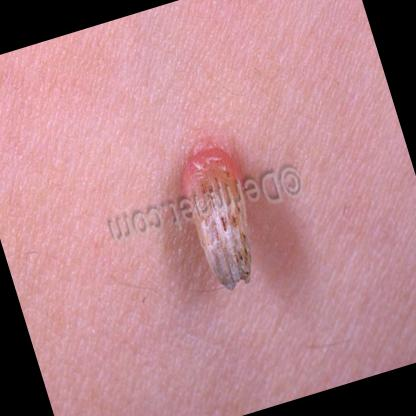Warts: (190, 209, 272, 310)
